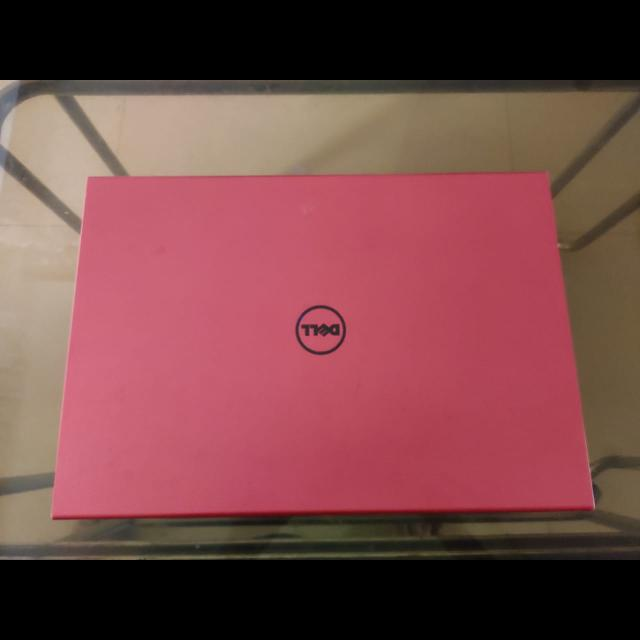Laptop: (49, 162, 602, 534)
